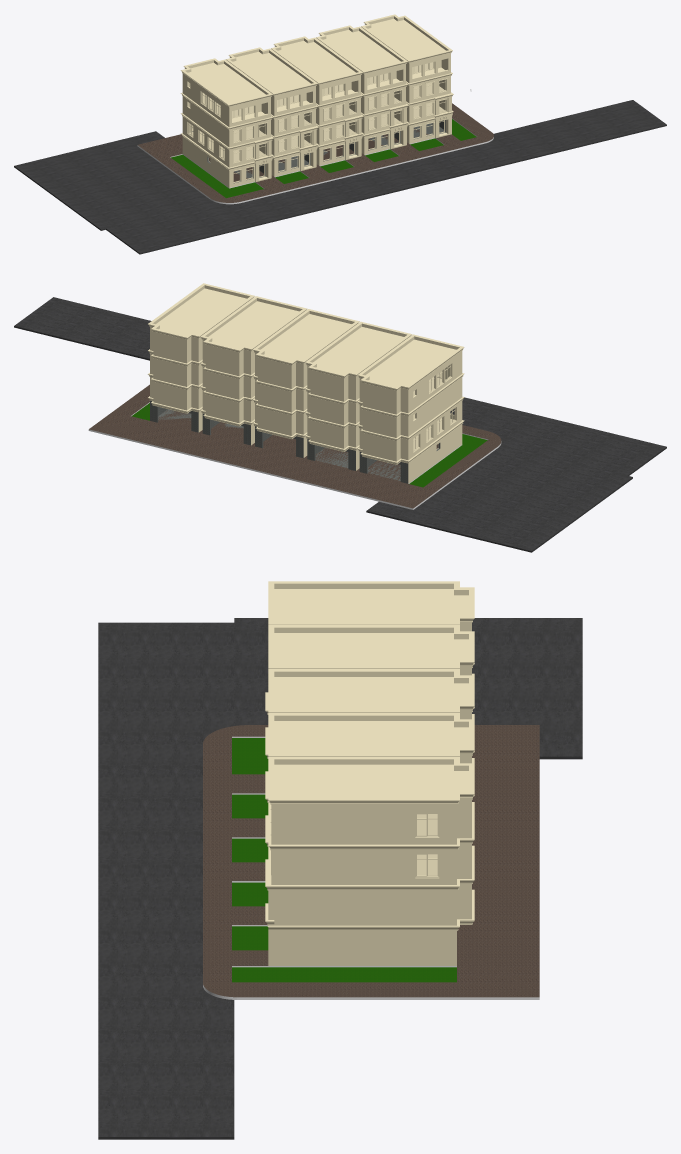
3 renders of one model, top to bottom at view 1: azimuth 30°, elevation 25°; view 2: azimuth 150°, elevation 25°; view 3: azimuth 270°, elevation 25°, orthographic. The views are drawn at different scales.
Parts seen in each view (by area): view 1: Component#4 (×5), 29287, 29244, 32846; view 2: Component#4 (×5), 29287, 29244, 32846; view 3: 29287, Component#4 (×5), 29244, 32846.
Boxes of the visible parts, x1,y1,x2,y2 form: Component#4 (×5): (180, 14, 453, 187); 29287: (14, 100, 666, 254); 29244: (137, 103, 493, 204); 32846: (171, 119, 476, 198); Component#4 (×5): (147, 283, 464, 483); 29287: (14, 297, 666, 552); 29244: (88, 384, 501, 509); 32846: (132, 403, 487, 487); 29287: (98, 618, 582, 1139); Component#4 (×5): (265, 581, 474, 965); 29244: (203, 725, 539, 999); 32846: (232, 738, 456, 982).
Size of the model in its own units: 82.72 by 12.8 by 32.59.
1322 materials, 58 textured.
